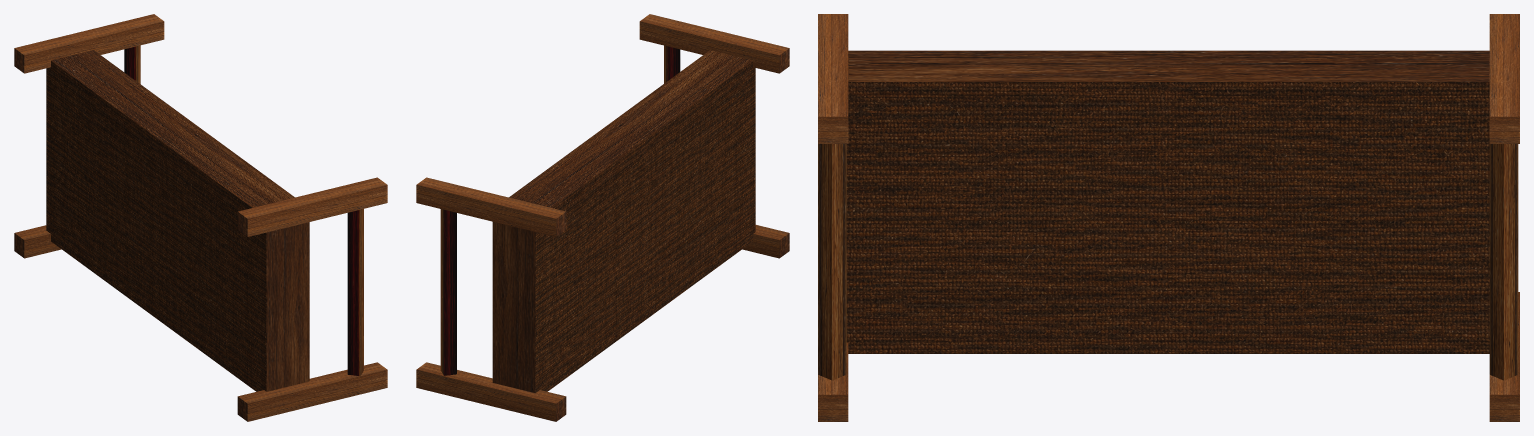
The model's file is mm9_deco_bedmedium2r270.glb.
3 views of the same model, side by side, from view 1: azimuth 30°, elevation 25°; view 2: azimuth 150°, elevation 25°; view 3: azimuth 270°, elevation 25° (orthographic). The views are drawn at different scales.
Visible parts, largest first — view 1: Bedmedium2r270; view 2: Bedmedium2r270; view 3: Bedmedium2r270.
Part boxes in pixels (box(x1,y1,x2,y2)): Bedmedium2r270: box(14, 14, 387, 421); Bedmedium2r270: box(416, 14, 789, 421); Bedmedium2r270: box(818, 14, 1519, 421).
Size of the model in its own units: 1.06 by 1.47 by 3.05.
Materials: 2 (2 with a texture image).
